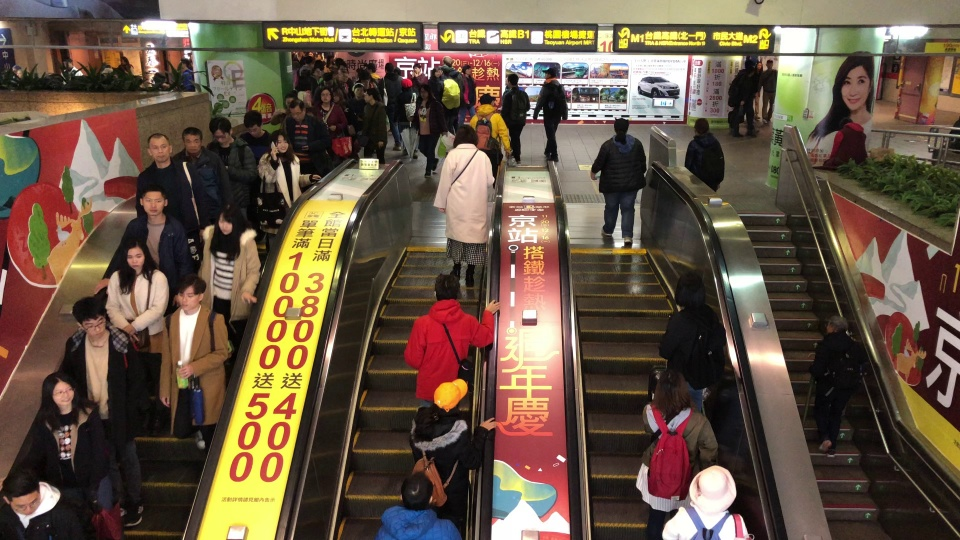person_head: (688, 467, 734, 512), (1, 467, 41, 514), (650, 369, 691, 412), (68, 296, 106, 339), (672, 271, 707, 308), (174, 273, 207, 312), (400, 471, 432, 511), (42, 371, 75, 405), (137, 185, 168, 216), (216, 204, 242, 237), (123, 238, 150, 269), (145, 132, 172, 162), (433, 381, 460, 411), (432, 273, 460, 301), (207, 116, 233, 143), (452, 124, 479, 148), (181, 126, 203, 153), (242, 109, 263, 135), (271, 128, 291, 153), (825, 315, 849, 333), (288, 99, 306, 121), (692, 117, 710, 136), (612, 117, 630, 134), (362, 86, 379, 103), (283, 91, 298, 107), (319, 87, 333, 103), (479, 93, 495, 106), (837, 116, 853, 129), (358, 72, 371, 86), (506, 72, 519, 86), (419, 84, 432, 97), (62, 57, 73, 70), (322, 72, 333, 85), (353, 83, 364, 96), (544, 67, 557, 78), (334, 88, 343, 103), (400, 78, 412, 89), (366, 62, 376, 73), (384, 62, 394, 73), (431, 67, 441, 78), (439, 66, 450, 76), (11, 64, 21, 74), (353, 67, 363, 77), (461, 64, 471, 74), (744, 66, 754, 76), (412, 63, 421, 74), (442, 55, 451, 66), (304, 55, 313, 65), (765, 59, 774, 69), (16, 69, 25, 78), (181, 59, 189, 68), (756, 61, 763, 70), (120, 56, 127, 64), (326, 54, 333, 62), (395, 67, 402, 75), (293, 61, 299, 69), (308, 51, 314, 58), (297, 51, 303, 57), (317, 53, 322, 58)
person_vbox: (62, 296, 143, 528), (633, 369, 719, 540), (156, 273, 228, 460), (104, 238, 171, 438), (406, 381, 497, 528), (403, 272, 500, 408), (36, 370, 122, 517), (91, 186, 191, 309), (432, 124, 496, 287), (657, 270, 726, 414), (199, 203, 262, 350), (807, 315, 866, 459), (254, 128, 321, 254), (134, 131, 206, 241), (590, 117, 647, 245), (661, 466, 755, 539), (374, 470, 462, 540), (171, 127, 234, 209), (205, 115, 256, 210), (1, 467, 67, 540), (468, 93, 512, 176), (285, 98, 331, 177), (532, 67, 569, 162), (412, 84, 448, 177), (811, 116, 869, 172), (683, 117, 725, 193), (499, 73, 530, 167), (728, 66, 761, 138), (378, 62, 403, 151), (394, 78, 420, 160), (363, 87, 388, 164), (314, 87, 347, 140), (239, 109, 271, 161), (458, 63, 477, 126), (270, 90, 298, 130), (437, 65, 460, 112), (761, 59, 777, 124), (312, 72, 343, 102), (60, 56, 83, 85), (358, 73, 382, 100), (753, 60, 763, 121), (180, 59, 194, 89), (410, 63, 426, 85), (366, 62, 381, 84), (293, 50, 305, 66), (324, 55, 335, 72)
